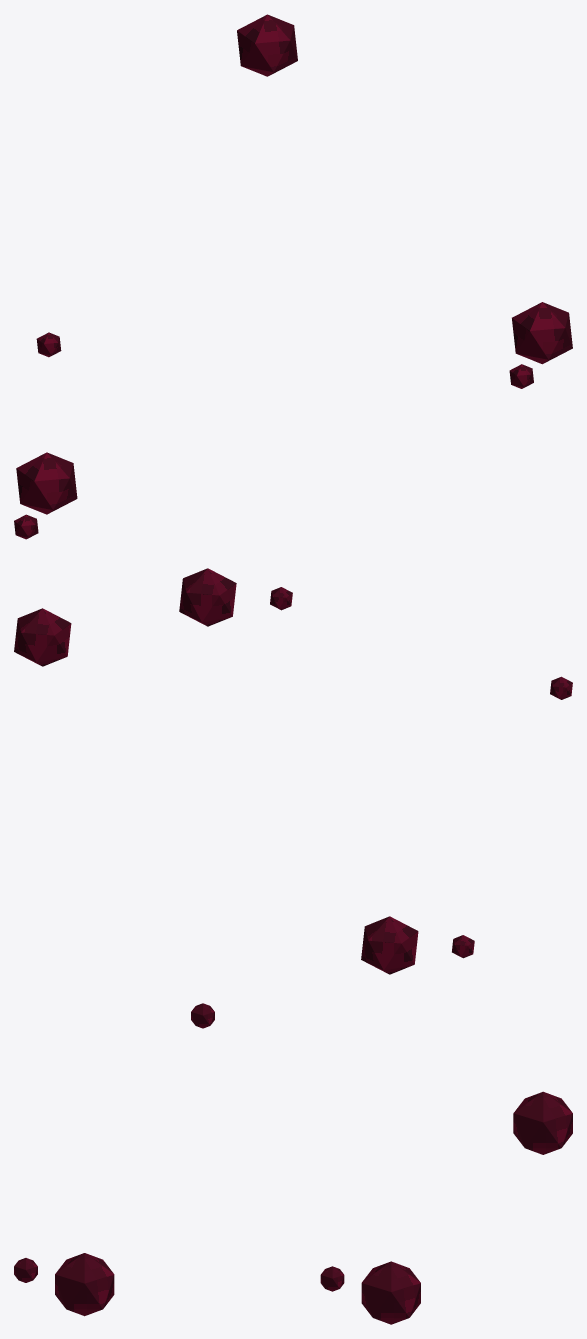
The model's file is IslandRocks_firepit.glb.
3 renders of one model, top to bottom at view 1: azimuth 30°, elevation 25°; view 2: azimuth 150°, elevation 25°; view 3: azimuth 270°, elevation 25°, orthographic. The views are drawn at different scales.
Visible parts, largest first — view 1: IslandRocks; view 2: IslandRocks; view 3: IslandRocks.
Part boxes in pixels (x1=…): IslandRocks: x1=14, y1=14, x2=572, y2=539; IslandRocks: x1=14, y1=568, x2=572, y2=974; IslandRocks: x1=14, y1=1003, x2=572, y2=1324.
Bounding box in the file's own units: 29.68 × 22.41 × 29.91.
Materials: 1 (1 with a texture image).
